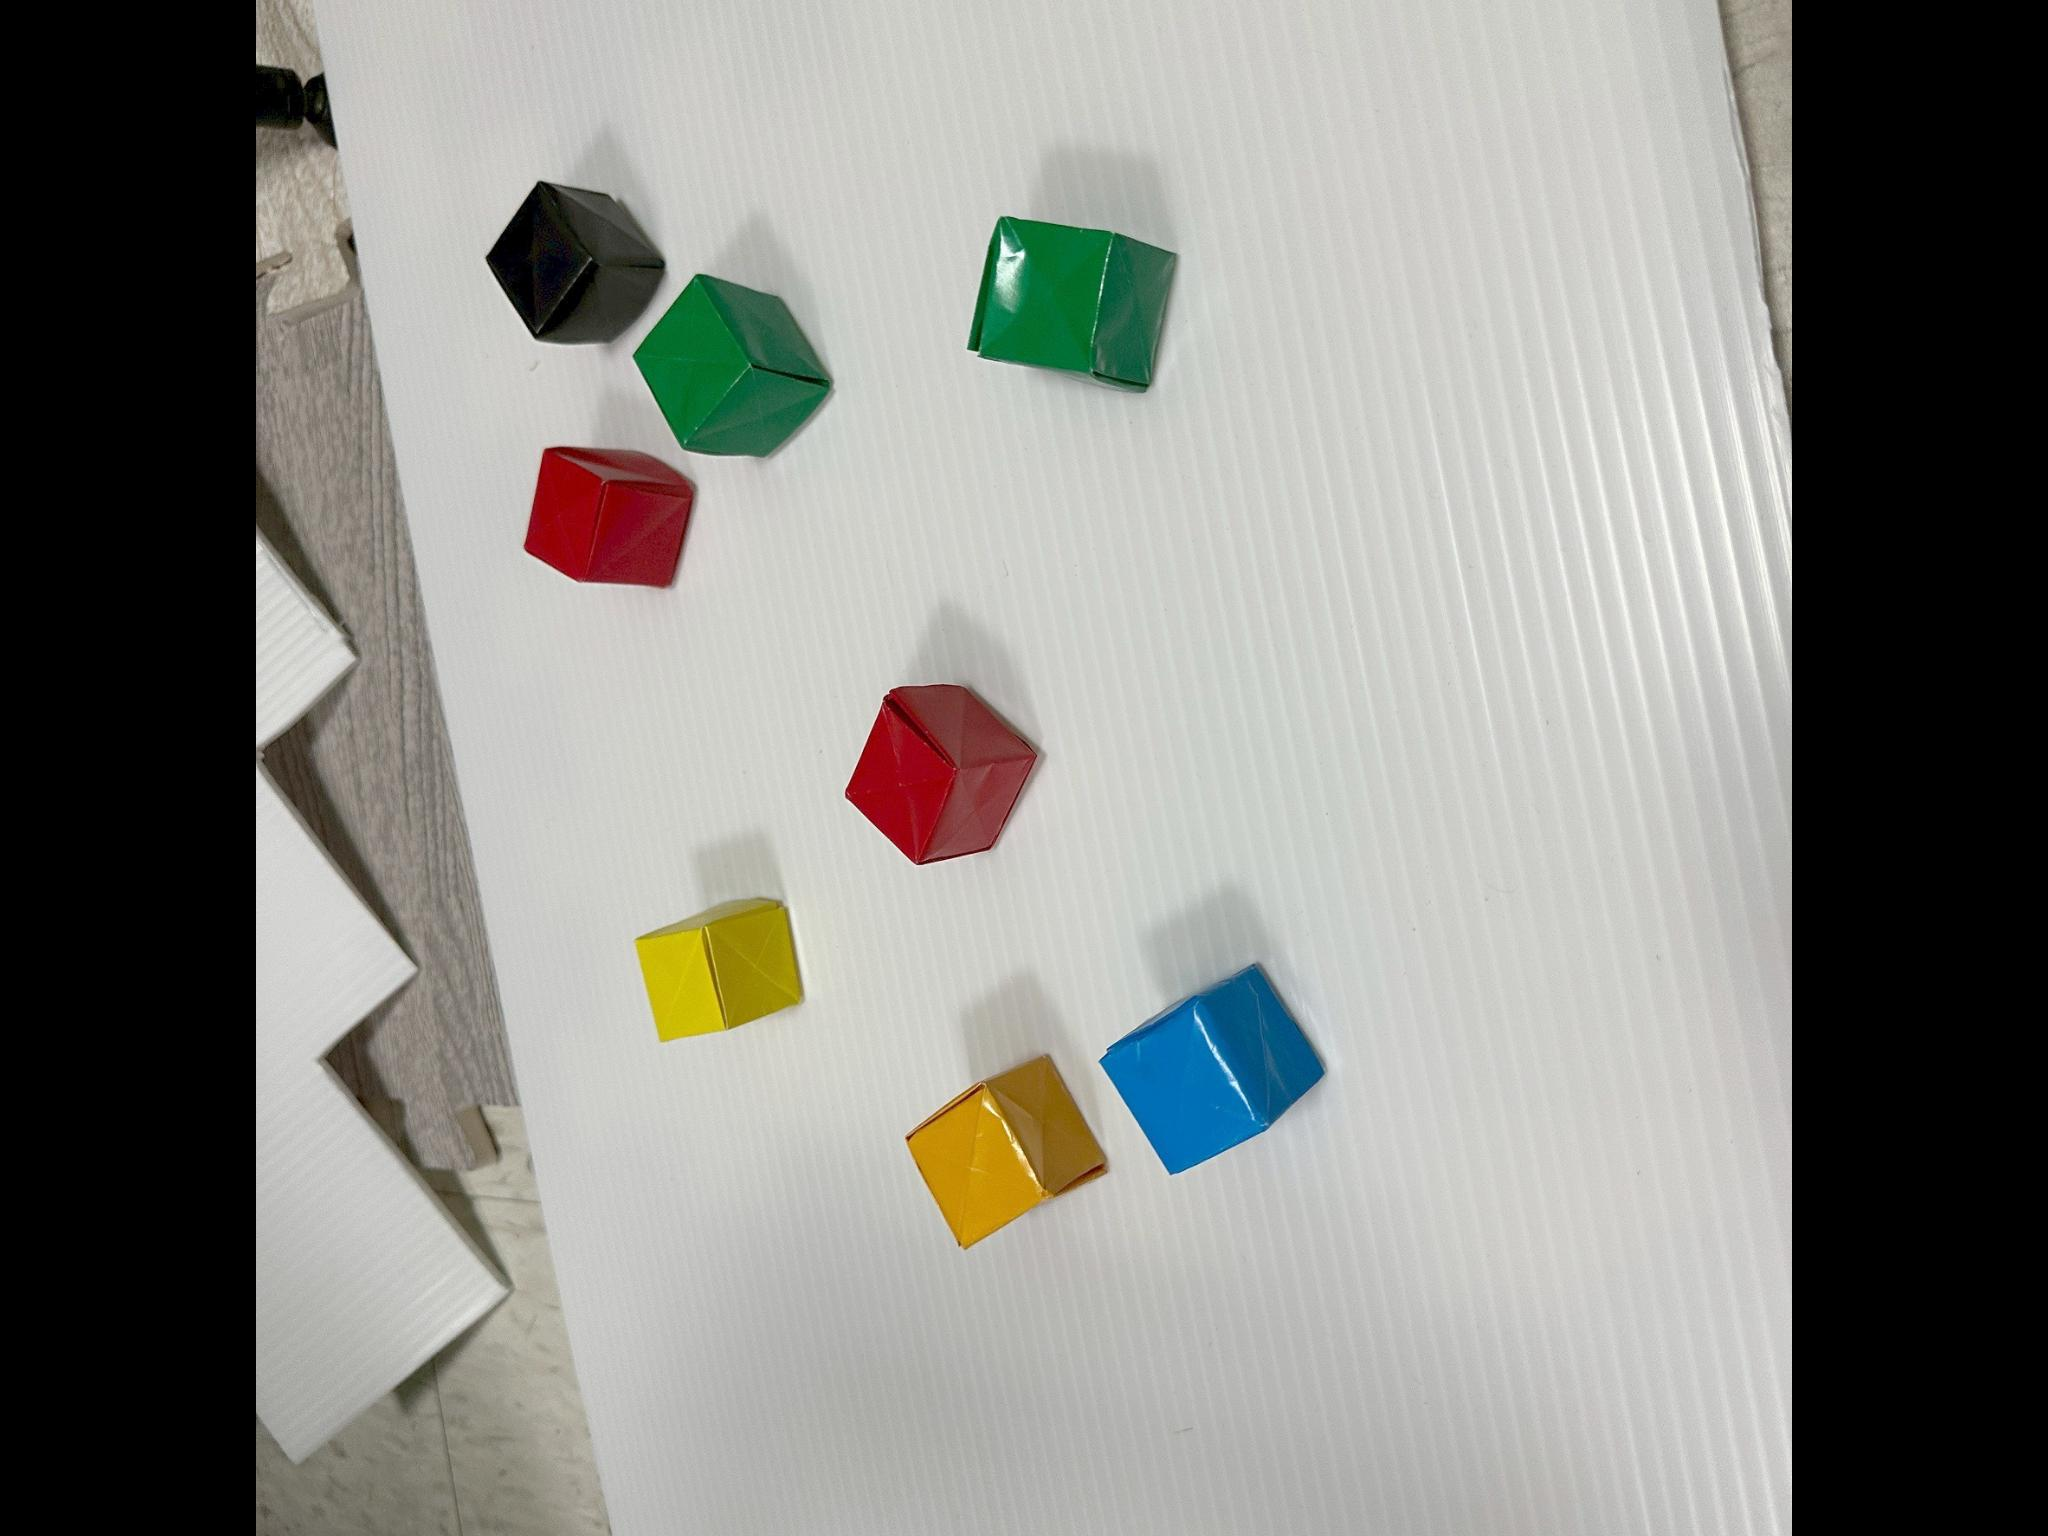cube: (1100, 965, 1324, 1173), (908, 1055, 1105, 1247), (632, 274, 830, 457), (969, 218, 1176, 390), (847, 684, 1035, 862), (487, 179, 663, 344), (524, 445, 693, 587), (637, 899, 801, 1041)
